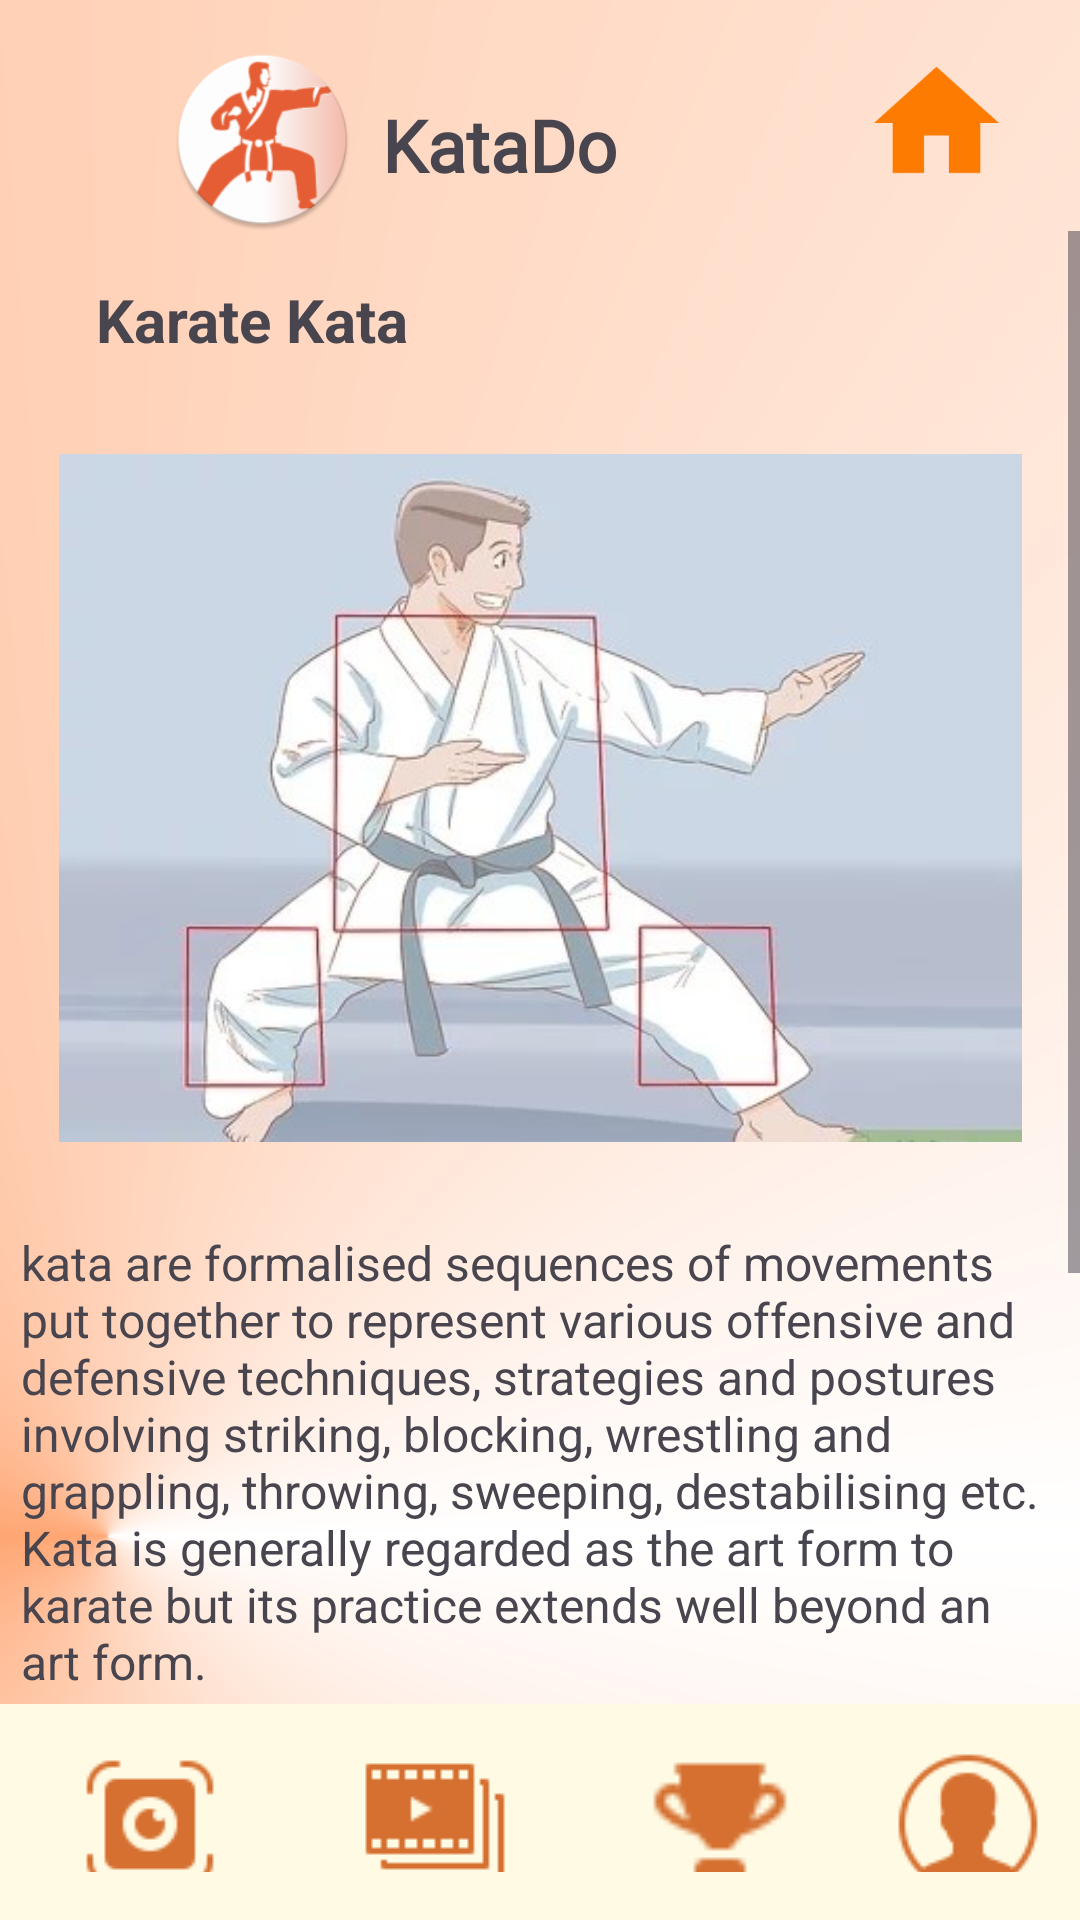

Icons on this 1080px x 1920px Android screen, each with its box as (x1, y1, x2, y2):
home: (874, 67, 999, 174)
profileorange: (898, 1754, 1038, 1872)
tropyorange: (653, 1762, 787, 1872)
